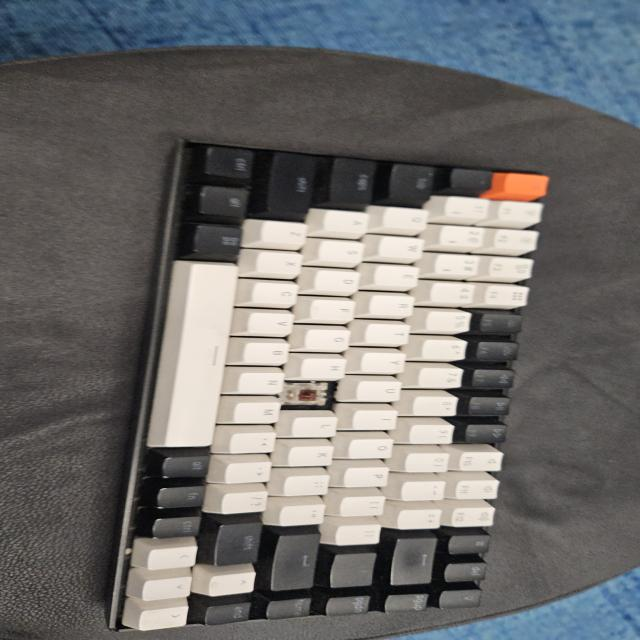C: (289, 381, 328, 409)
